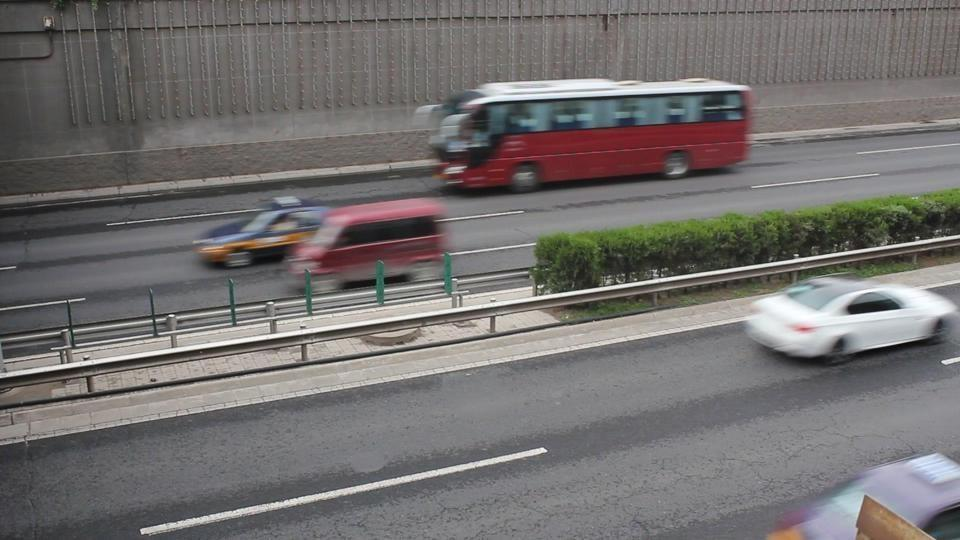car: (744, 277, 954, 360), (768, 448, 959, 537), (283, 197, 453, 286), (191, 201, 330, 268)
